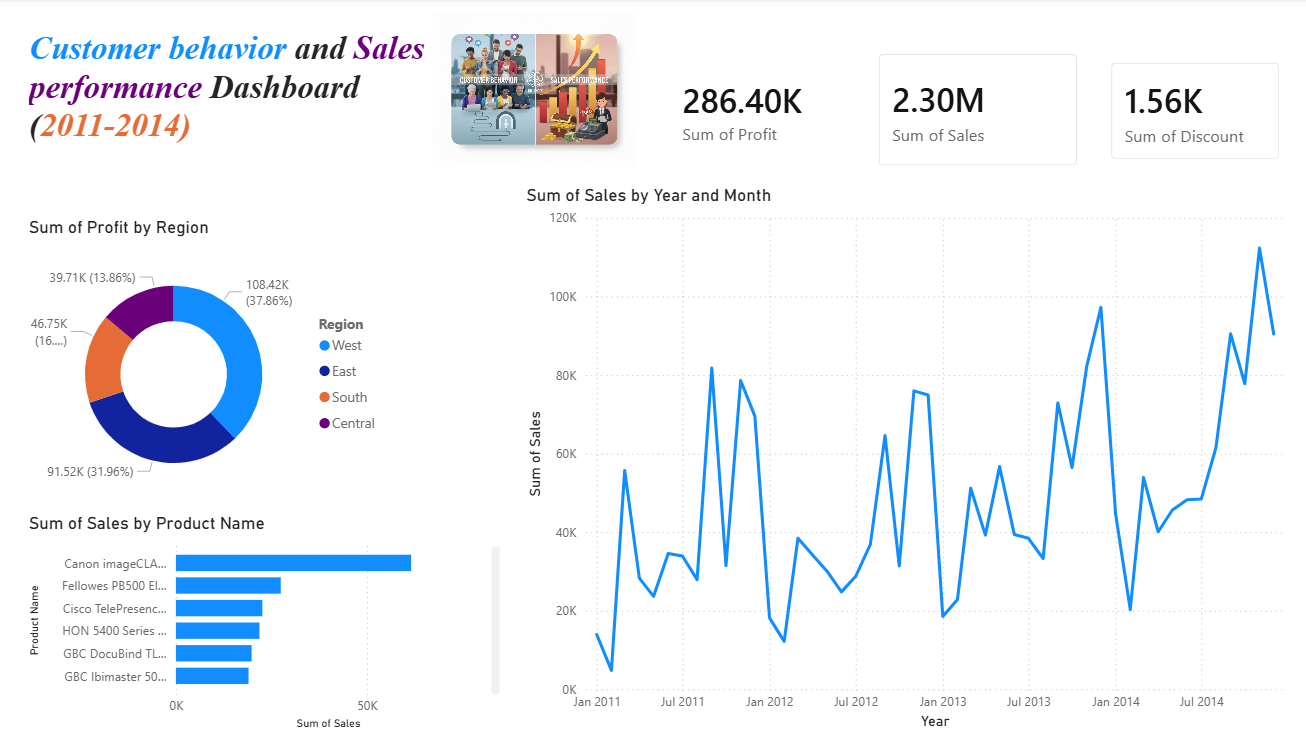

The page's visual inventory and layout, read from the dashboard file:
{"tool":"powerbi","page":{"name":"Page 1","canvas":[1280,720],"ordinal":0},"visuals":[{"type":"cardVisual","fields":{"Data":["Sum(Orders.Profit)"]},"box":[640,47,196.7,128.3],"z":0},{"type":"cardVisual","fields":{"Data":["Sum(Orders.Sales)"]},"box":[843.8,38.5,228.1,144],"z":1000},{"type":"cardVisual","fields":{"Data":["Sum(Orders.Discount)"]},"box":[1071.7,46.7,199,129],"z":2000},{"type":"donutChart","fields":{"Category":["Orders.Region"],"Y":["Sum(Orders.Profit)"]},"box":[24.7,214.1,358.1,289.5],"z":3000},{"type":"barChart","fields":{"Category":["Orders.Product Name"],"Y":["Sum(Orders.Sales)"]},"box":[24.7,503.6,470.7,216.8],"z":5000},{"type":"textbox","box":[24.2,25.7,400.5,149.7],"z":6000},{"type":"image","box":[424.8,14.3,199.6,149.7],"z":7000},{"type":"lineChart","fields":{"Y":["Sum(Orders.Sales)"],"Category":["Orders.Order Date.Variation.Date Hierarchy.Year","Orders.Order Date.Variation.Date Hierarchy.Month"]},"box":[511.1,182.2,763,538],"z":7001}]}

Visuals, with their boxes in screenshot pixels (x1, y1, x2, y2), scaled from the page's 1280x720 canvas onto the 1306x733 screenshot:
cardVisual - Sum(Orders.Profit): [left=653, top=48, right=854, bottom=178]
cardVisual - Sum(Orders.Sales): [left=861, top=39, right=1094, bottom=186]
cardVisual - Sum(Orders.Discount): [left=1093, top=48, right=1297, bottom=179]
donutChart - Orders.Region x Sum(Orders.Profit): [left=25, top=218, right=391, bottom=513]
barChart - Orders.Product Name x Sum(Orders.Sales): [left=25, top=513, right=505, bottom=732]
textbox: [left=25, top=26, right=433, bottom=179]
image: [left=433, top=15, right=637, bottom=167]
lineChart - Sum(Orders.Sales) x Orders.Order Date.Variation.Date Hierarchy.Year: [left=521, top=185, right=1300, bottom=732]
